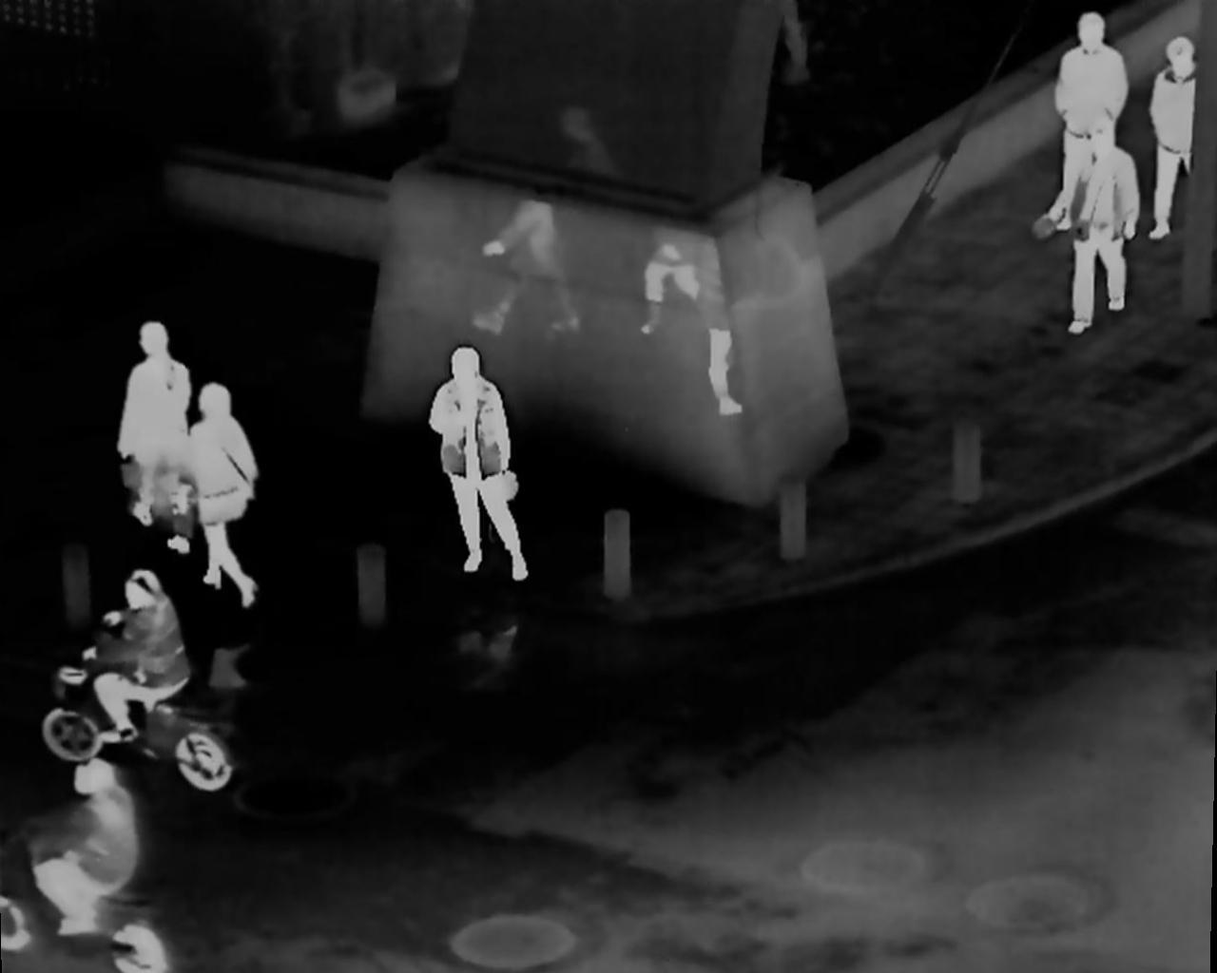person: (432, 344, 531, 582), (17, 760, 142, 938), (1038, 16, 1134, 229), (110, 322, 194, 559), (89, 567, 188, 745), (1063, 118, 1137, 337), (191, 379, 259, 609), (1143, 35, 1205, 247)
